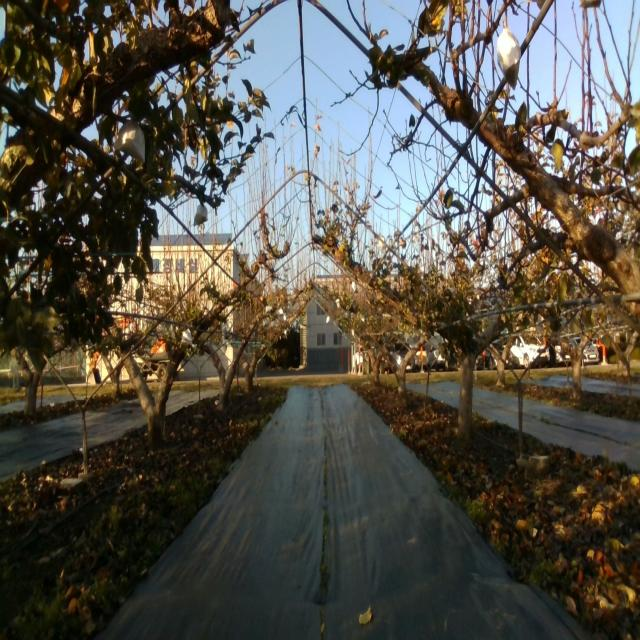pearbags: (497, 19, 520, 90), (114, 120, 146, 164), (193, 204, 208, 229), (181, 327, 193, 347)
